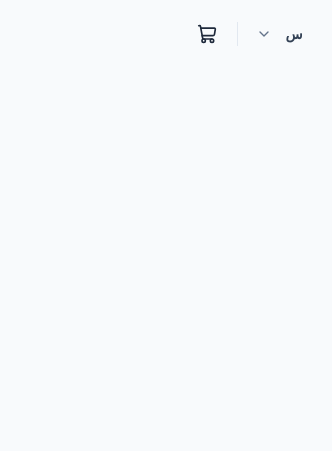
Test: the header account entry › opens from the keyboard on its first item; Escape gives the focus back to its button
Later steps or results of the test are not shown.
Click the button named "حساب کاربری: سارا احمدی" at (283, 34), box [246,12,320,56]
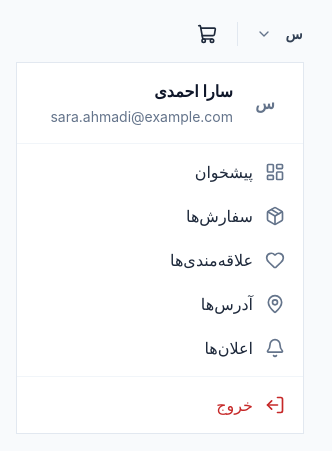
Expected: the menu is shown
Press Escape
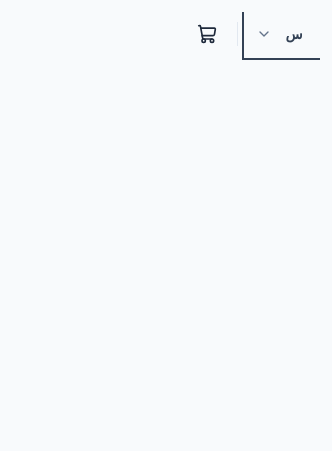
Expected: the menu is gone
